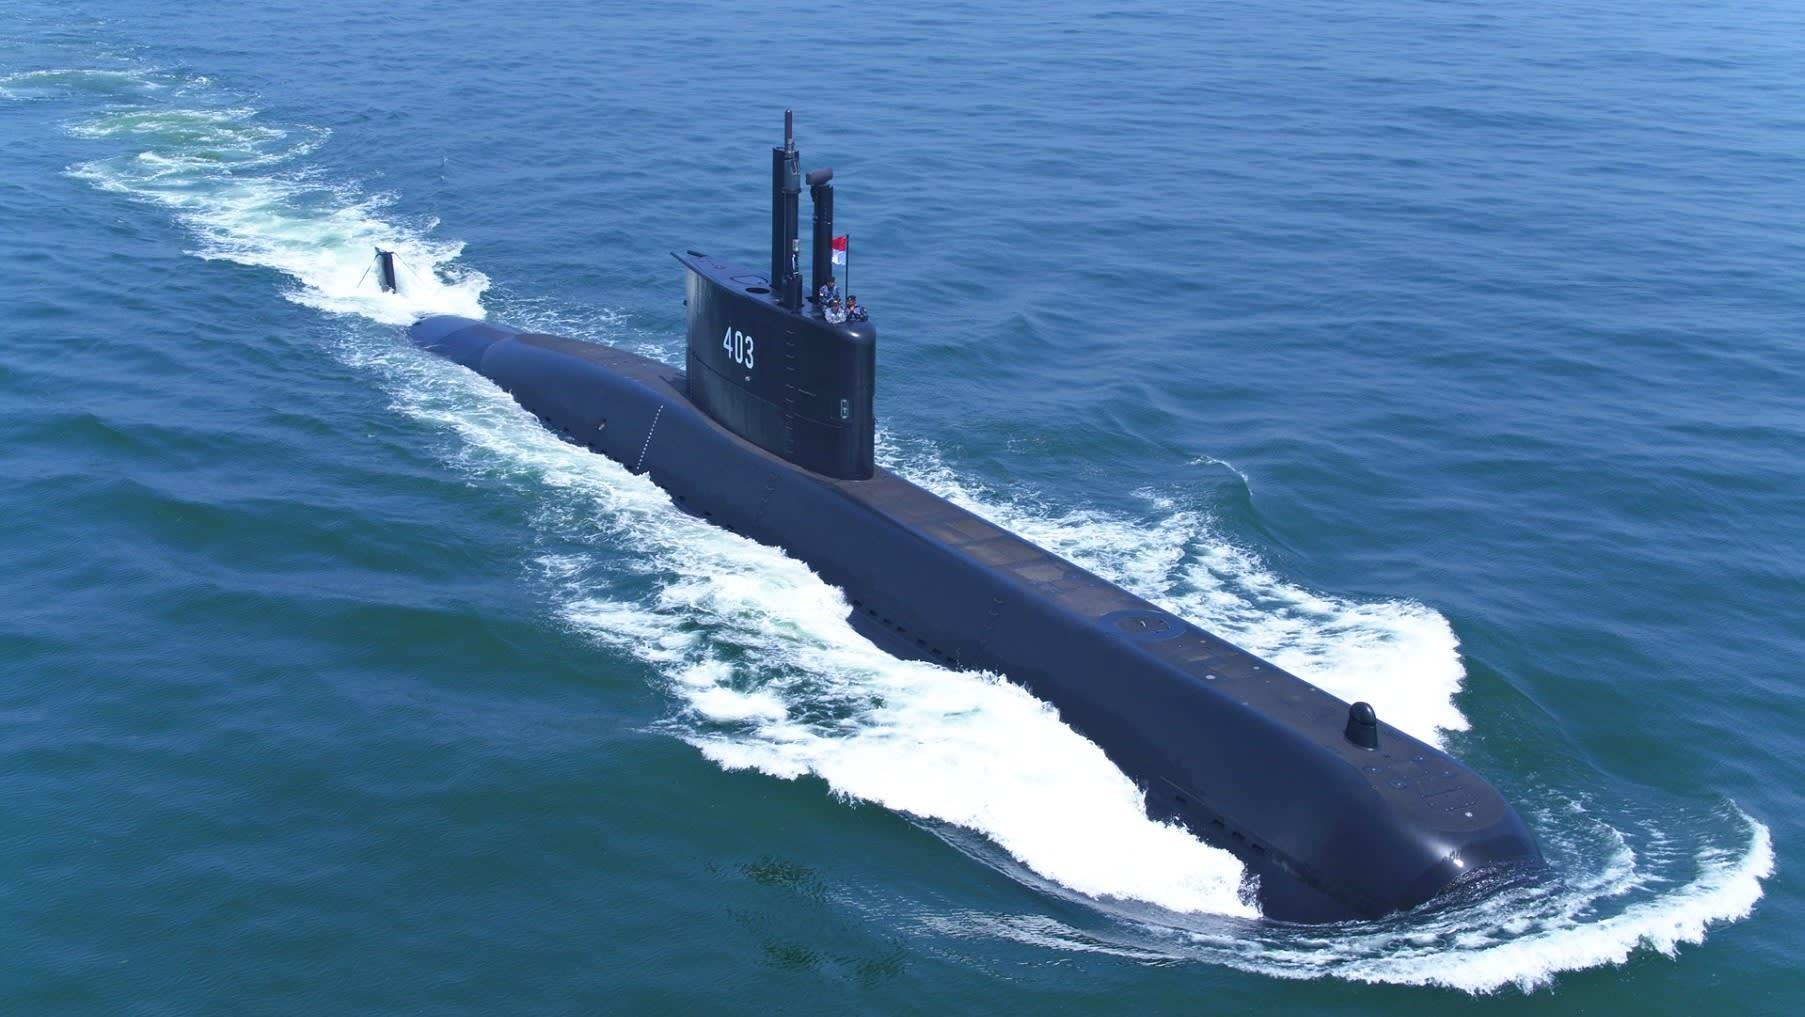Submarine: (265, 73, 1683, 962)
